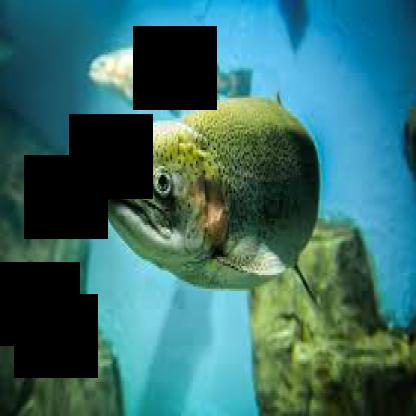fish: (91, 93, 331, 293), (83, 34, 259, 111)
